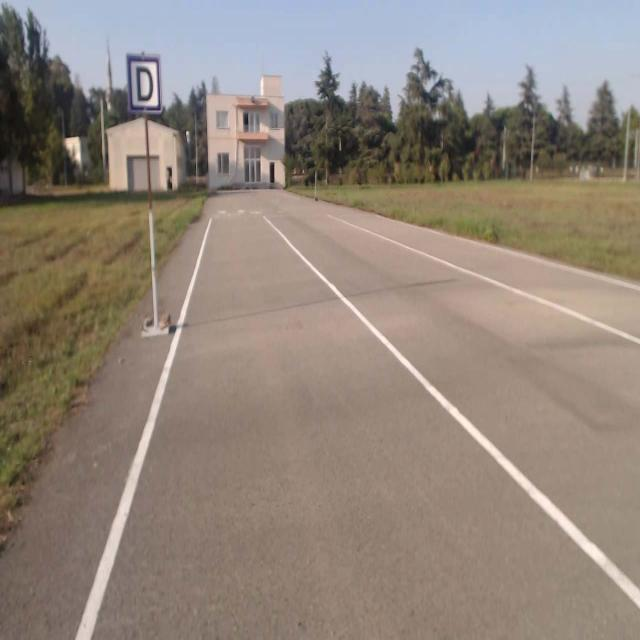durak: (126, 52, 162, 113)
